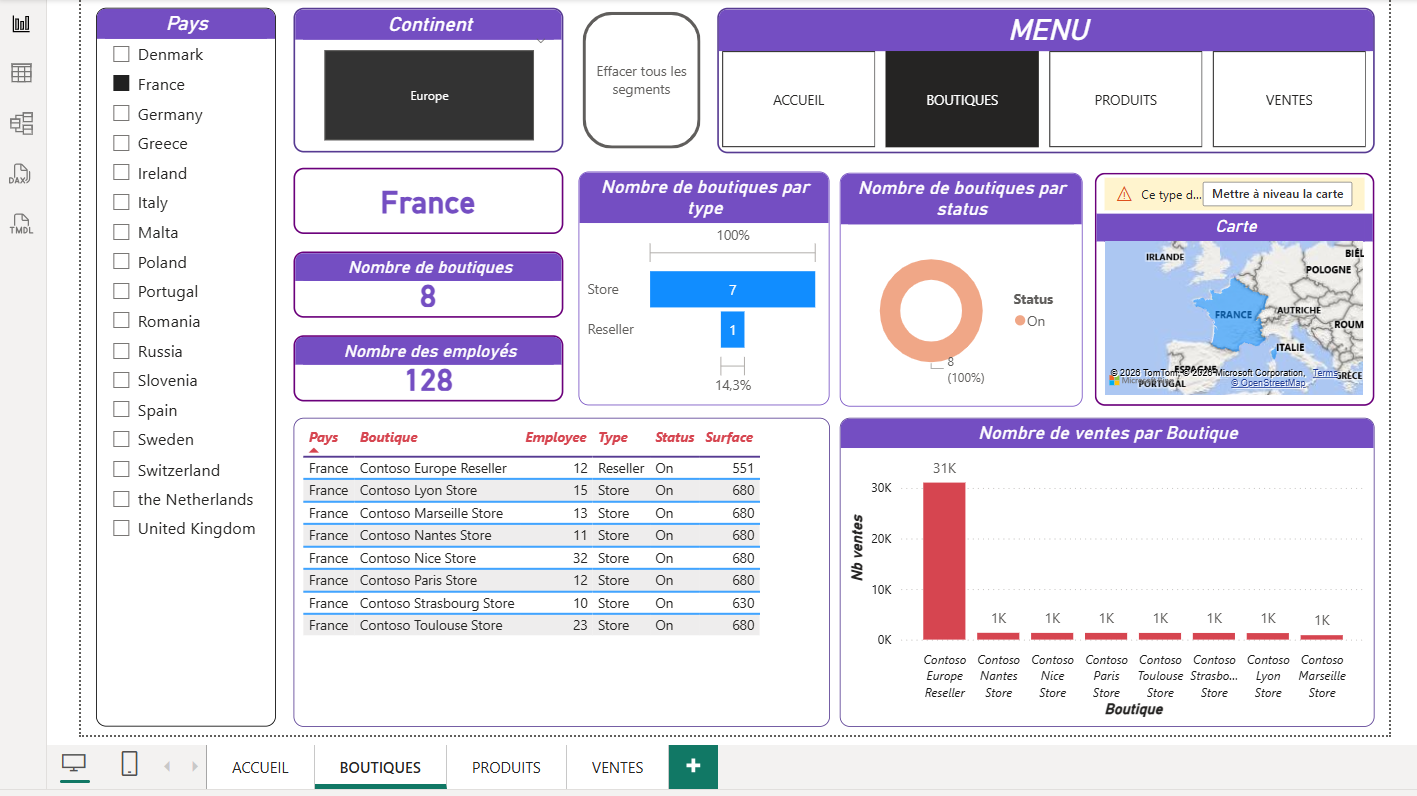

This screenshot's page, from the dashboard's own definition file:
{"tool":"powerbi","page":{"name":"BOUTIQUES","canvas":[1280,720],"ordinal":1},"visuals":[{"type":"slicer","title":"Pays","fields":{"Values":["Geographie.Pays"]},"box":[14.7,8.6,176.1,703.1],"z":0},{"type":"slicer","title":"Continent","fields":{"Values":["Geographie.Continent"]},"box":[207.9,8.6,264.1,141.8],"z":1000},{"type":"card","fields":{"Values":["Geographie.PaysSelected"]},"box":[207.9,165.1,264.1,64.8],"z":2000},{"type":"card","title":"Nombre de boutiques","fields":{"Values":["Boutiques.Nb boutiques"]},"box":[207.9,247,264.1,64.8],"z":3000},{"type":"card","title":"Nombre des employés","fields":{"Values":["Sum(Boutiques.Employee)"]},"box":[207.9,328.9,264.1,64.8],"z":4000},{"type":"funnel","title":"Nombre de boutiques par type","fields":{"Category":["Boutiques.Type"],"Y":["Boutiques.Nb boutiques"]},"box":[486.7,168.8,245.8,228.7],"z":5000},{"type":"donutChart","title":"Nombre de boutiques par status","fields":{"Category":["Boutiques.Status"],"Y":["Boutiques.Nb boutiques"]},"box":[742.3,170,237.2,228.7],"z":6000},{"type":"tableEx","fields":{"Values":["Geographie.Pays","Boutiques.Boutique","Boutiques.Employee","Boutiques.Type","Boutiques.Status","Boutiques.Surface"]},"box":[207.9,409.6,524.6,302],"z":7000},{"type":"clusteredColumnChart","title":"Nombre de ventes par Boutique","fields":{"Category":["Boutiques.Boutique"],"Y":["sales.Nb ventes"]},"box":[742.3,409.6,523.4,302],"z":8000},{"type":"actionButton","box":[486.7,8.6,123.5,141.8],"z":9000},{"type":"pageNavigator","title":"MENU","box":[622.2,8.9,643.3,142.2],"z":10000},{"type":"filledMap","title":"Carte","fields":{"Category":["Geographie.Pays","Geographie.Continent"]},"box":[991.4,170.5,273.3,228.1],"z":11000}]}

Visuals, with their boxes on the page's 1280x720 design canvas (x1, y1, x2, y2). These are canvas units, not pixel positions in the 1417x796 screenshot, which may show the page scaled, cropped or inside an application window:
"Pays" slicer: bbox=[15, 9, 191, 712]
"Continent" slicer: bbox=[208, 9, 472, 150]
card - Geographie.PaysSelected: bbox=[208, 165, 472, 230]
"Nombre de boutiques" card: bbox=[208, 247, 472, 312]
"Nombre des employés" card: bbox=[208, 329, 472, 394]
"Nombre de boutiques par type" funnel: bbox=[487, 169, 732, 398]
"Nombre de boutiques par status" donutChart: bbox=[742, 170, 980, 399]
tableEx - Geographie.Pays x Boutiques.Boutique: bbox=[208, 410, 732, 712]
"Nombre de ventes par Boutique" clusteredColumnChart: bbox=[742, 410, 1266, 712]
actionButton: bbox=[487, 9, 610, 150]
"MENU" pageNavigator: bbox=[622, 9, 1266, 151]
"Carte" filledMap: bbox=[991, 170, 1265, 399]
